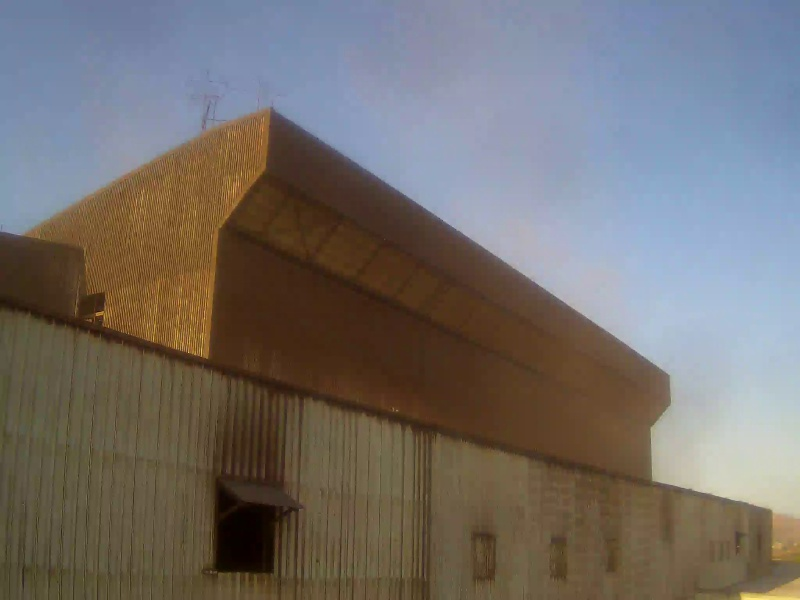Pessimo: (260, 110, 709, 515)
